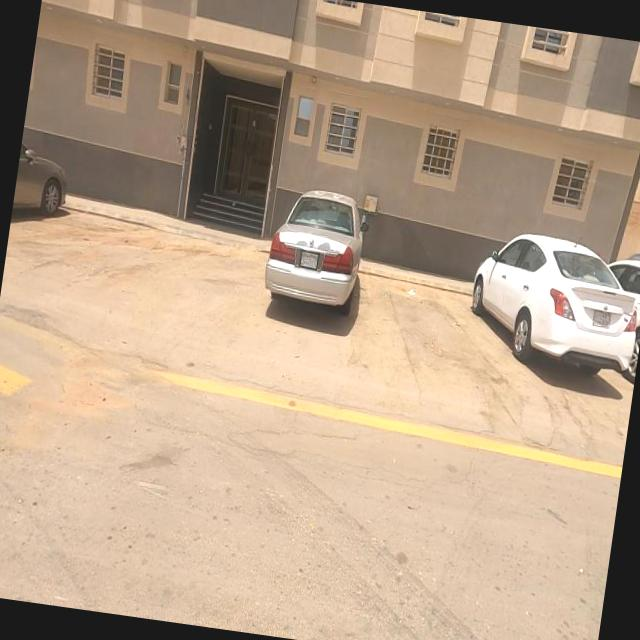debris: (388, 238, 438, 335)
